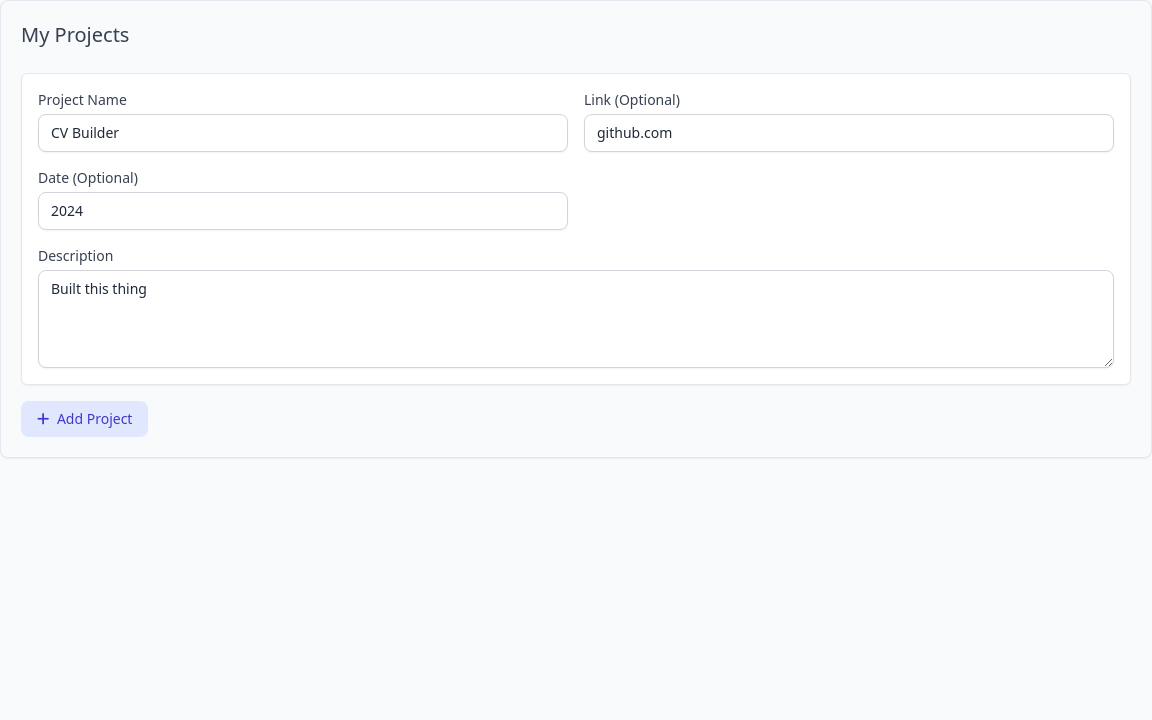
Test case: ProjectsEditor.vue › adds a new item when "Add Project" is clicked
What coordinates should you click on to do the following:
click the button "Add Project"
I would click on:
 (85, 419)
Its box is [21,401,148,437].
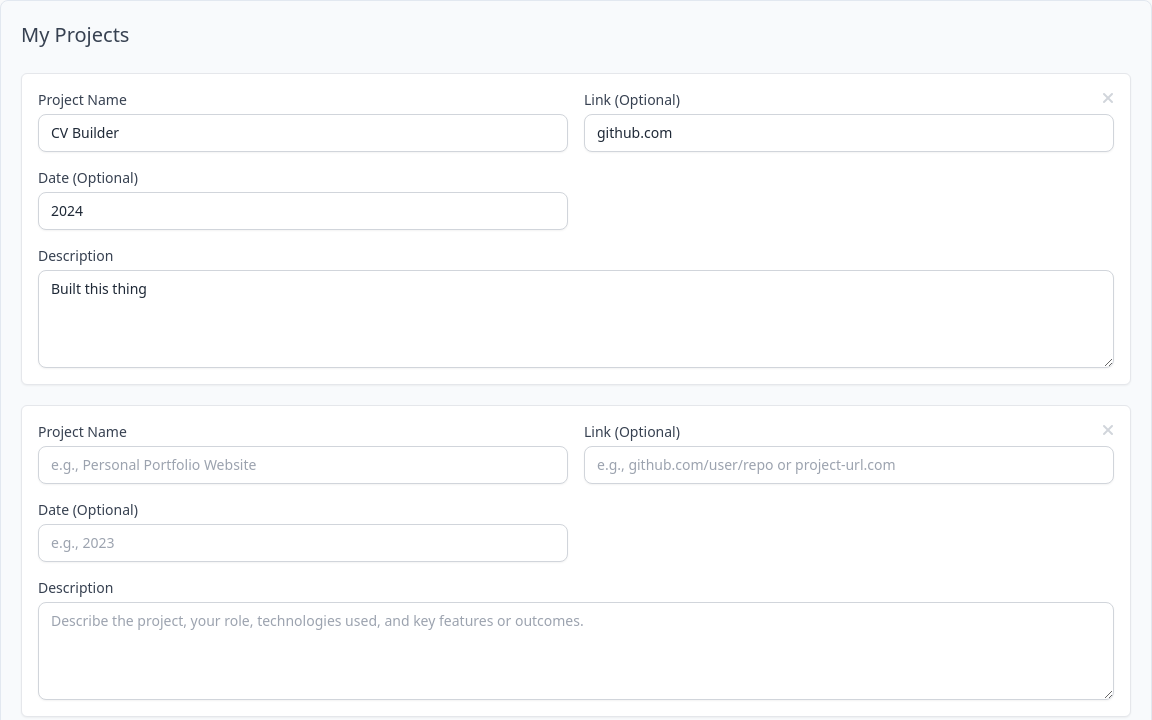
expect the number of fields labelled "Project Name" is 2: met, box [38,114,568,152]; [38,446,568,484]
